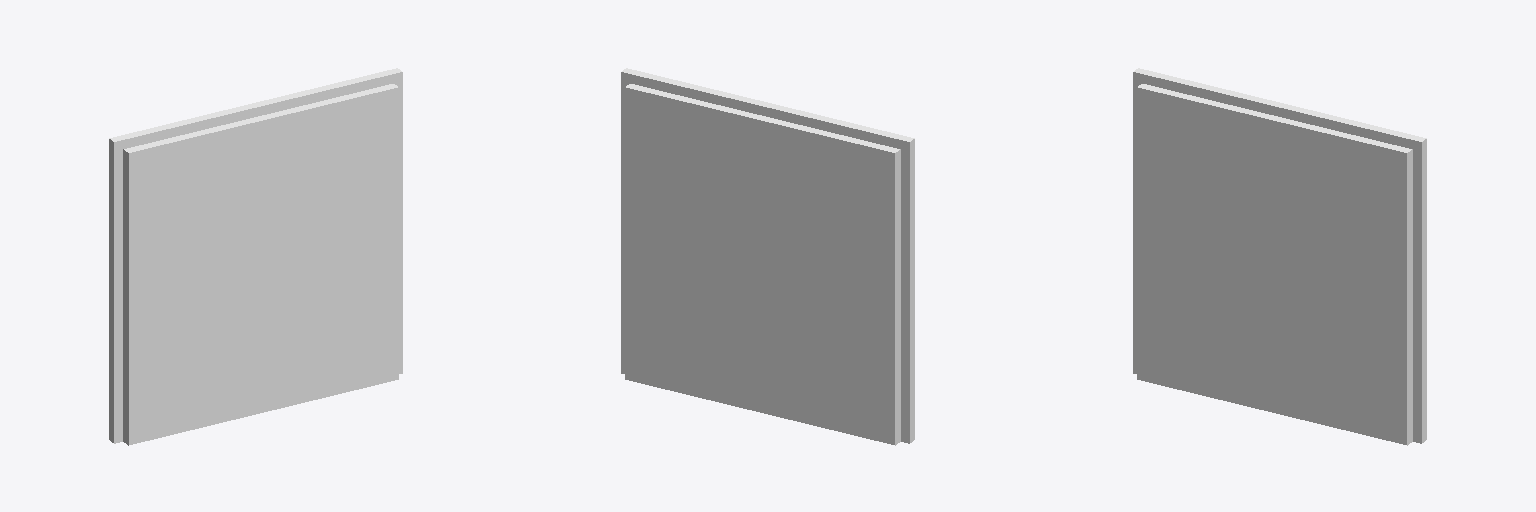
Rendered from doorRed.obj.
The picture shows the model from 3 angles: view 1: azimuth 30°, elevation 25°; view 2: azimuth 150°, elevation 25°; view 3: azimuth 330°, elevation 25°; orthographic projection.
Size of the model in its own units: 32 by 32 by 3.